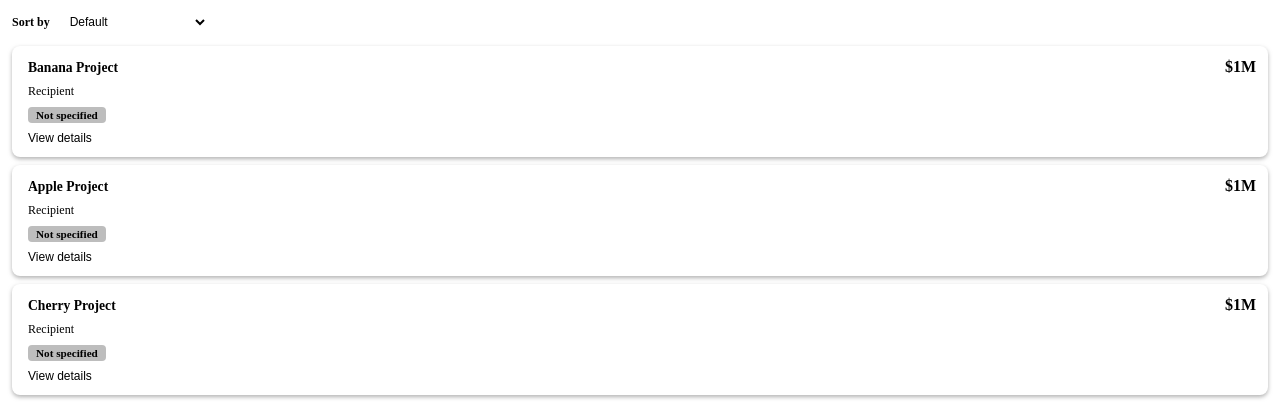
CountryFundingPanelTable › compact card sorting › restores the original order when Default is selected
This screenshot has width=1280, height=416.
Select "Title" in the dropdown with class "card-sort-select". click: x=133, y=22
box: [58, 10, 208, 34]
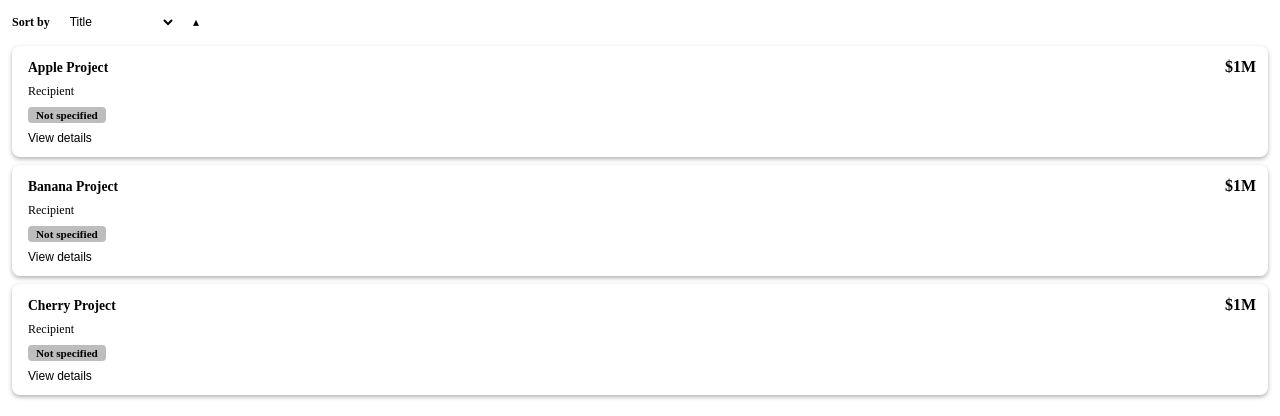
Select "Default" in the dropdown with class "card-sort-select". click: x=117, y=22
box: [58, 10, 176, 34]
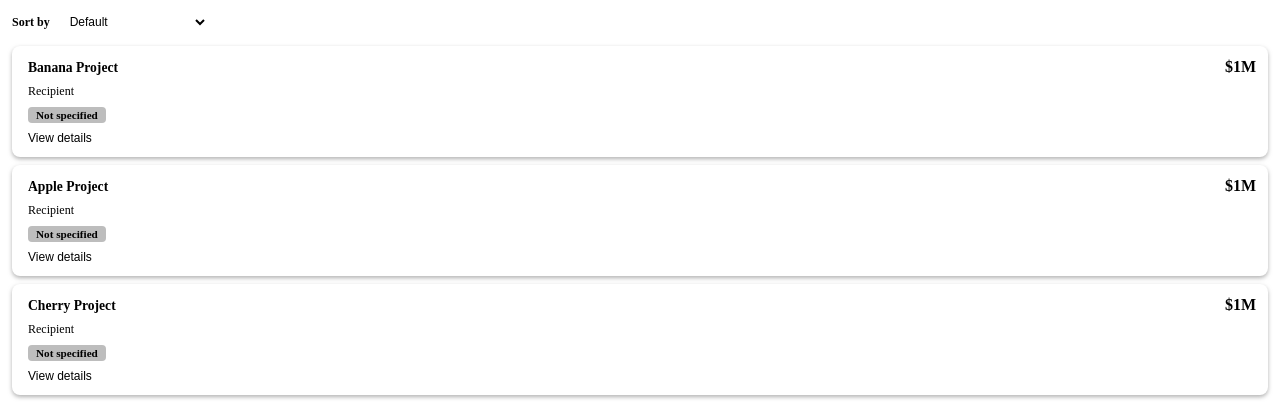
Result: the elements with class "grant-card-title" read "Banana Project", "Apple Project", "Cherry Project", in this order at [28, 60, 118, 76]; [28, 179, 108, 195]; [28, 298, 116, 314]
